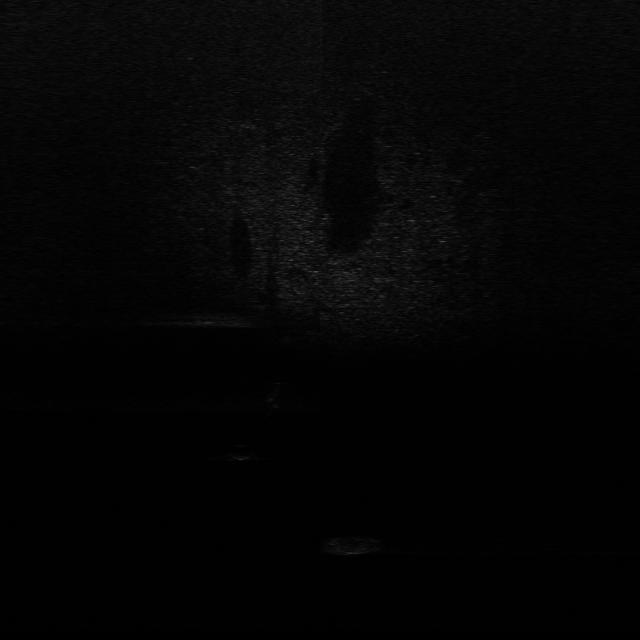ball: (231, 443, 258, 461)
circle cage: (316, 533, 388, 559)
human body: (267, 378, 287, 416)
